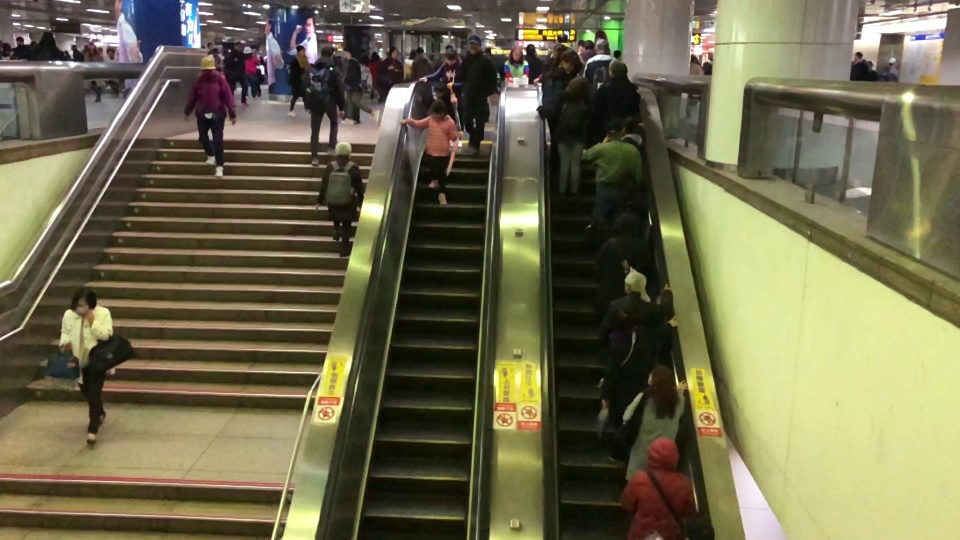person_head: (646, 433, 680, 473), (646, 363, 676, 398), (69, 284, 98, 316), (612, 213, 642, 237), (610, 307, 638, 332), (564, 69, 588, 98), (623, 269, 647, 294), (617, 169, 637, 194), (558, 48, 575, 74), (332, 140, 353, 160), (428, 98, 448, 119), (604, 119, 622, 140), (198, 55, 217, 74), (607, 59, 626, 76), (466, 35, 482, 54), (509, 44, 524, 64), (39, 30, 56, 47), (552, 43, 569, 60), (433, 83, 448, 100), (596, 38, 609, 55), (445, 49, 457, 65), (319, 46, 333, 58), (243, 43, 253, 59), (556, 31, 569, 43), (388, 45, 399, 59), (343, 46, 354, 60), (294, 44, 306, 56), (583, 39, 595, 51), (852, 51, 863, 63), (887, 55, 898, 67), (13, 34, 24, 45), (232, 40, 243, 51), (106, 46, 115, 59), (371, 49, 381, 60), (526, 44, 535, 55), (415, 46, 425, 55), (88, 40, 95, 49)
person_vbox: (599, 305, 681, 424), (59, 287, 114, 446), (620, 434, 697, 540), (623, 365, 689, 483), (596, 268, 674, 365), (537, 74, 592, 197), (400, 99, 463, 205), (582, 118, 643, 226), (184, 56, 238, 177), (315, 140, 364, 258), (595, 214, 659, 303), (305, 47, 345, 167), (460, 34, 498, 155), (591, 60, 642, 140), (420, 47, 466, 134), (542, 50, 577, 164), (342, 46, 381, 128), (602, 169, 649, 225), (583, 37, 619, 90), (223, 41, 249, 113), (287, 43, 311, 118), (84, 39, 107, 103), (376, 44, 404, 95), (26, 31, 64, 61), (540, 43, 572, 77), (502, 45, 530, 82), (102, 44, 121, 97), (243, 42, 260, 100), (547, 32, 577, 64), (523, 43, 545, 84), (411, 46, 434, 80), (848, 50, 871, 82), (367, 51, 384, 89), (878, 55, 901, 83), (578, 38, 597, 62), (12, 35, 30, 59)
